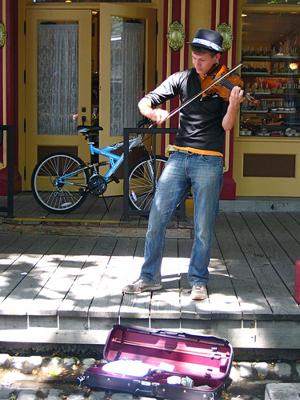person: (125, 26, 246, 301)
